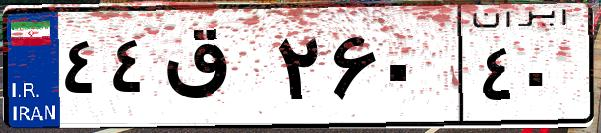0: (385, 28, 445, 110), (525, 38, 570, 115)
2: (270, 28, 330, 110)
4: (57, 26, 110, 100), (475, 38, 525, 113), (110, 28, 158, 98)
6: (330, 28, 385, 110)
ق: (158, 20, 270, 120)
